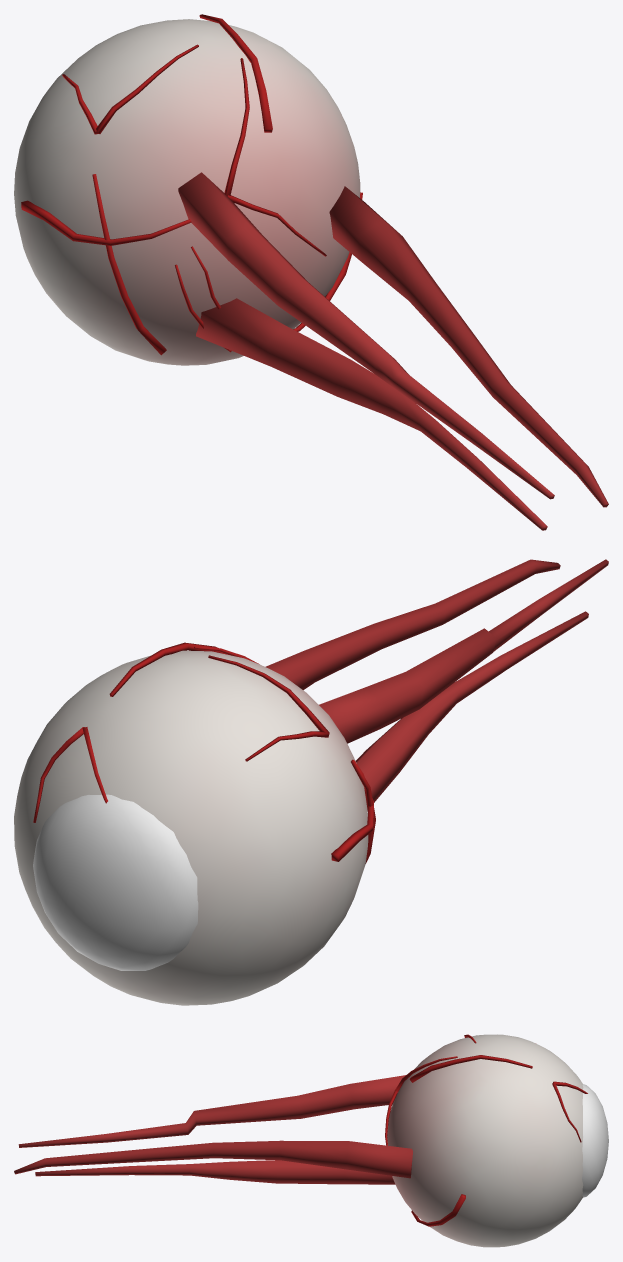
Rendered from demon_eye.glb.
3 renders of one model, top to bottom at view 1: azimuth 30°, elevation 25°; view 2: azimuth 150°, elevation 25°; view 3: azimuth 270°, elevation 25°, orthographic. The views are drawn at different scales.
Parts seen in each view (by area): view 1: demon_eye; view 2: demon_eye; view 3: demon_eye.
Boxes of the visible parts, x1,y1,x2,y2 form: demon_eye: (14,14,608,530); demon_eye: (14,559,608,1005); demon_eye: (14,1034,608,1247).
Bounding box in the file's own units: 0.8537 × 0.8434 × 2.34.
